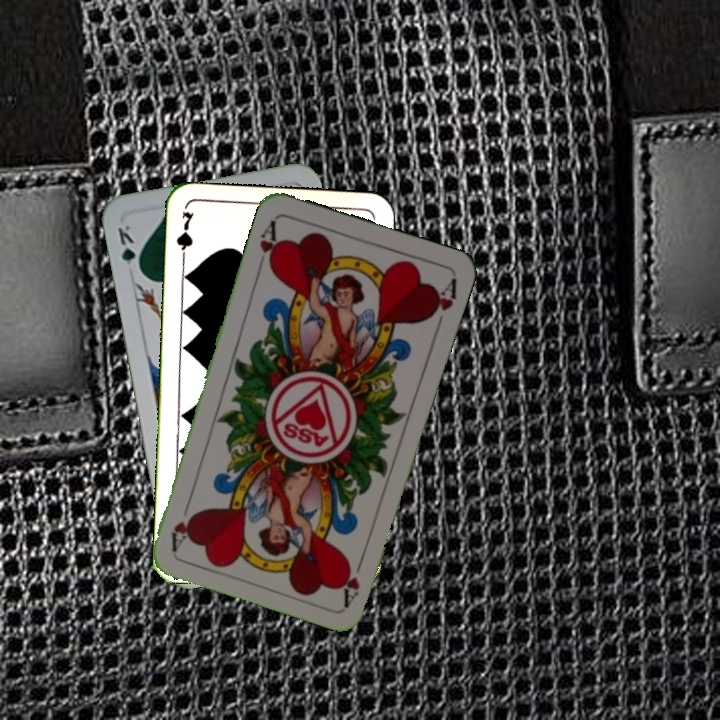G7: (172, 207, 197, 266)
GK: (113, 221, 144, 276)
HA: (336, 550, 367, 608), (253, 215, 283, 273)
